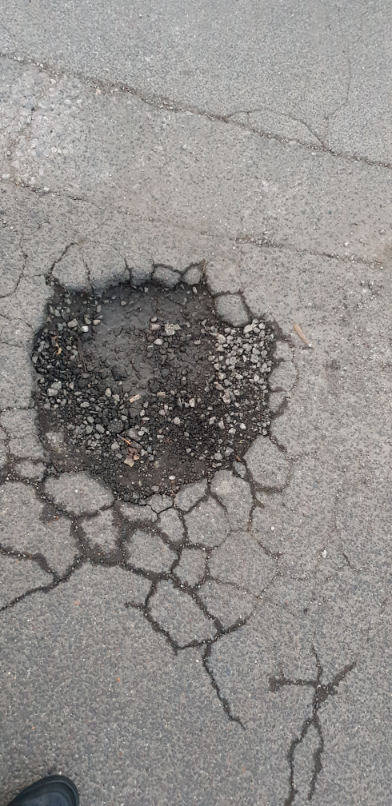pothole: (21, 255, 292, 513)
